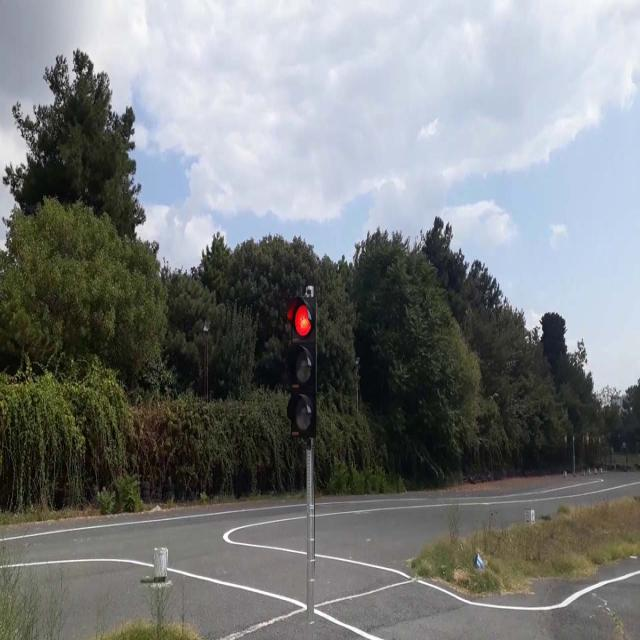kirmizi: (286, 292, 318, 436)
